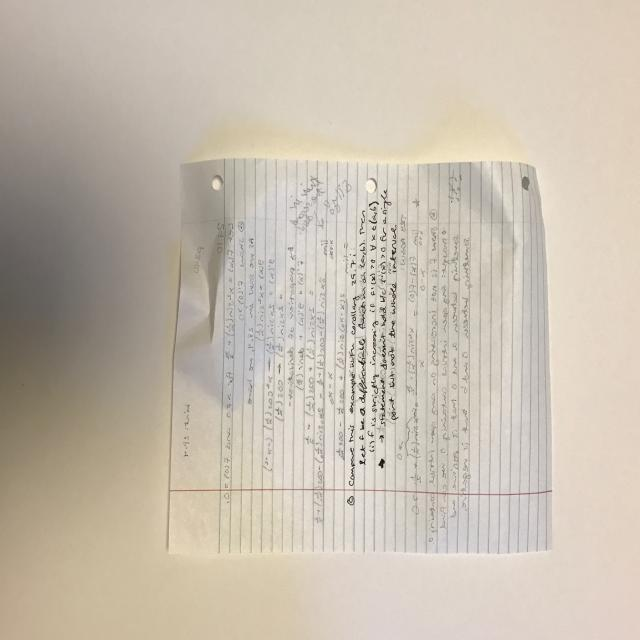paper: (170, 159, 556, 558)
